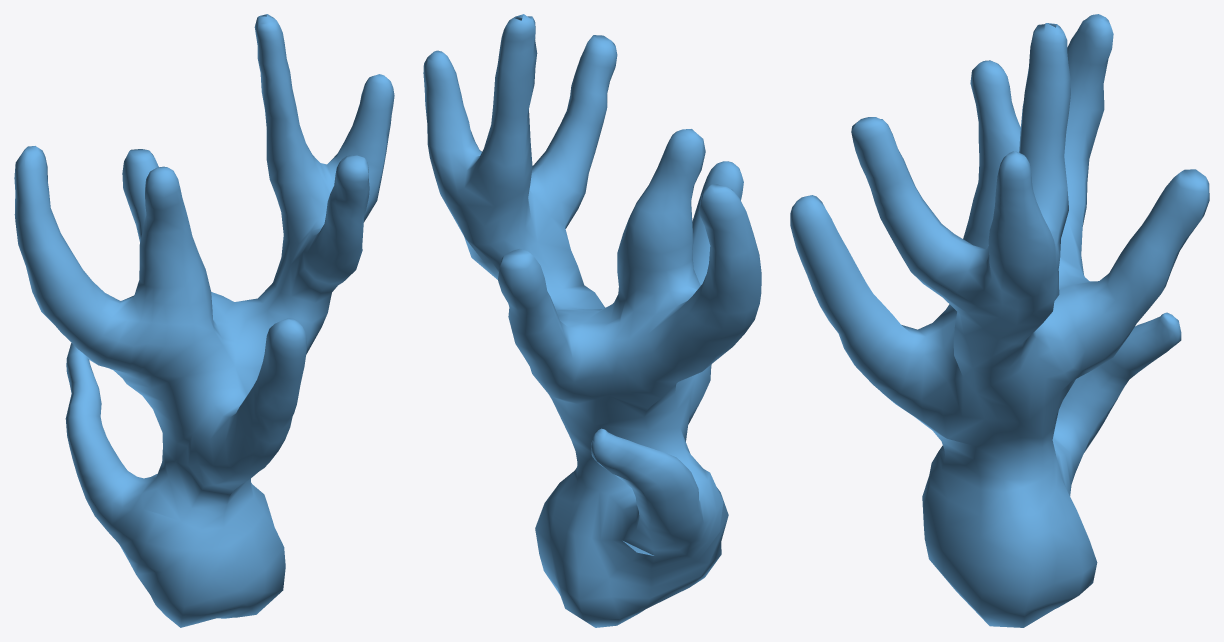
File: Area1.Coral1.fbx
3 renders of one model, left to right at view 1: azimuth 30°, elevation 25°; view 2: azimuth 150°, elevation 25°; view 3: azimuth 270°, elevation 25°, orthographic. The views are drawn at different scales.
Parts seen in each view (by area): view 1: Coral01; view 2: Coral01; view 3: Coral01.
Part boxes in pixels (bbox=[...]): Coral01: bbox=[14, 14, 394, 627]; Coral01: bbox=[423, 14, 761, 627]; Coral01: bbox=[790, 14, 1209, 627].
Size of the model in its own units: 355 by 565 by 343.
